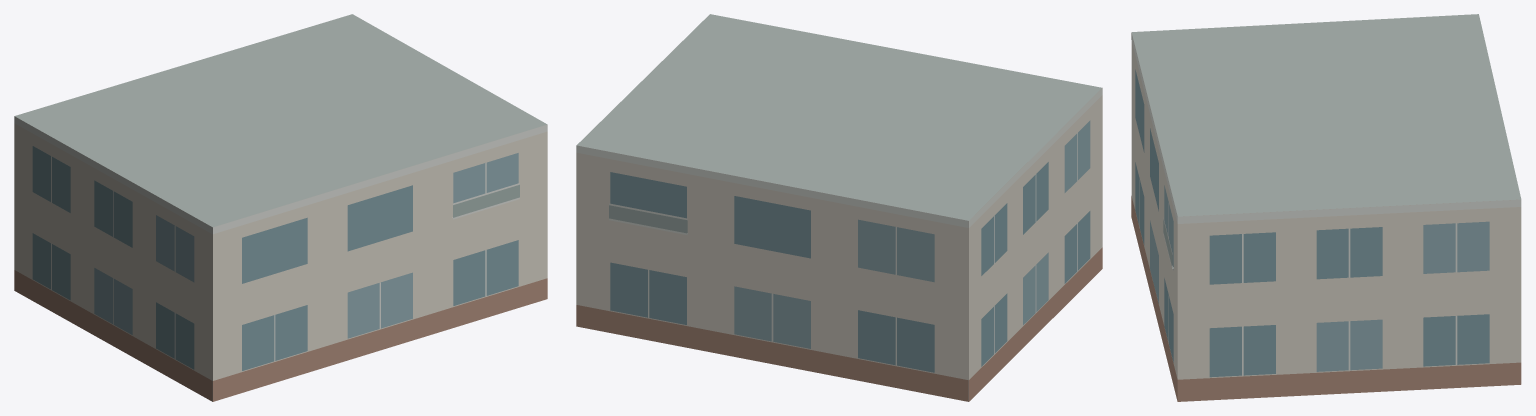
Rendered from survey-upis-32627300.glb.
3 views of the same model, side by side, from view 1: azimuth 30°, elevation 25°; view 2: azimuth 150°, elevation 25°; view 3: azimuth 270°, elevation 25° (orthographic). The views are drawn at different scales.
Parts seen in each view (by area): view 1: survey-upis-32627300.tmp; view 2: survey-upis-32627300.tmp; view 3: survey-upis-32627300.tmp.
Part boxes in pixels (x1,y1,x2,y2): survey-upis-32627300.tmp: (14, 14, 547, 401); survey-upis-32627300.tmp: (576, 14, 1102, 401); survey-upis-32627300.tmp: (1131, 14, 1521, 401).
Bounding box in the file's own units: 14.33 × 6.1 × 11.65.
